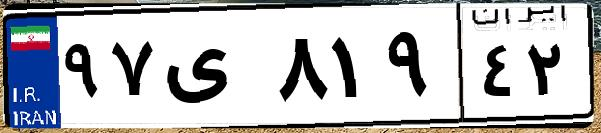1: (330, 28, 385, 110)
2: (525, 38, 570, 115)
4: (475, 38, 525, 113)
7: (110, 28, 158, 98)
8: (270, 28, 330, 110)
9: (385, 28, 445, 110), (57, 26, 110, 100)
ی: (158, 20, 270, 120)
